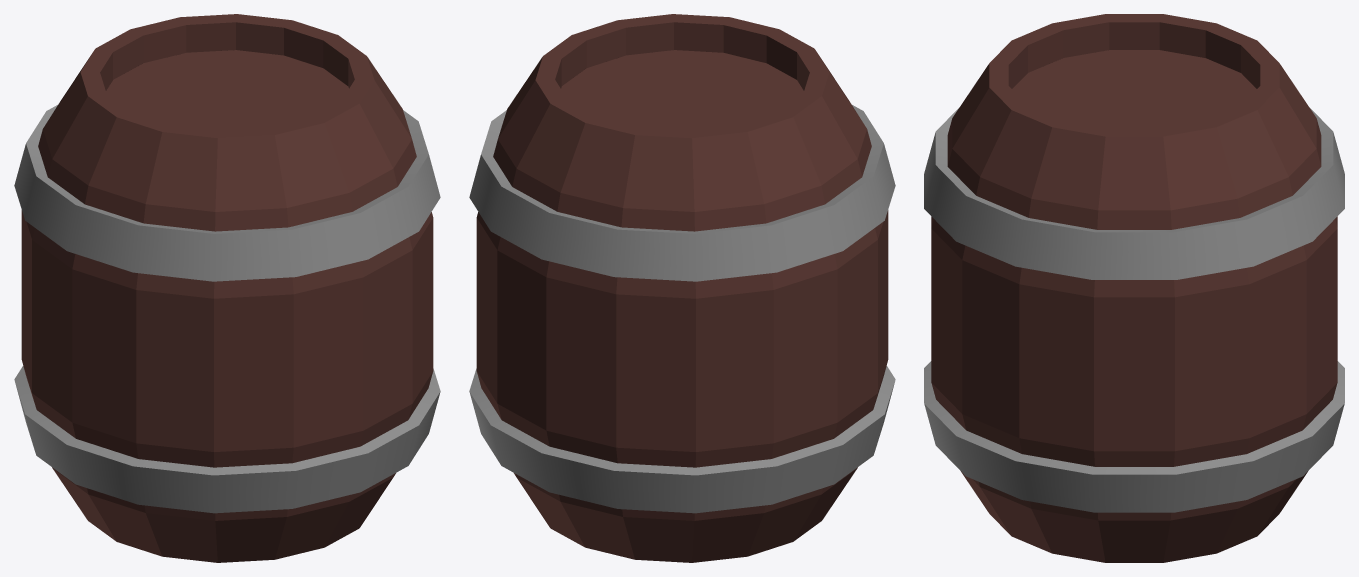
Rendered from OakBarrel.fbx.
3 views of the same model, side by side, from view 1: azimuth 30°, elevation 25°; view 2: azimuth 150°, elevation 25°; view 3: azimuth 270°, elevation 25° (orthographic).
Visible parts, largest first — view 1: OakBarrel_Base, OakBarrel_Ring, OakBarrel_Cover; view 2: OakBarrel_Base, OakBarrel_Ring, OakBarrel_Cover; view 3: OakBarrel_Base, OakBarrel_Ring, OakBarrel_Cover.
Part boxes in pixels (x1,y1,x2,y2): OakBarrel_Base: [21, 14, 433, 562]; OakBarrel_Ring: [14, 105, 440, 513]; OakBarrel_Cover: [106, 50, 348, 129]; OakBarrel_Base: [476, 14, 888, 562]; OakBarrel_Ring: [469, 105, 895, 513]; OakBarrel_Cover: [561, 50, 803, 129]; OakBarrel_Base: [931, 14, 1337, 562]; OakBarrel_Ring: [924, 107, 1344, 512]; OakBarrel_Cover: [1012, 50, 1256, 128].
Size of the model in its own units: 1.34 by 1.5 by 1.34.
